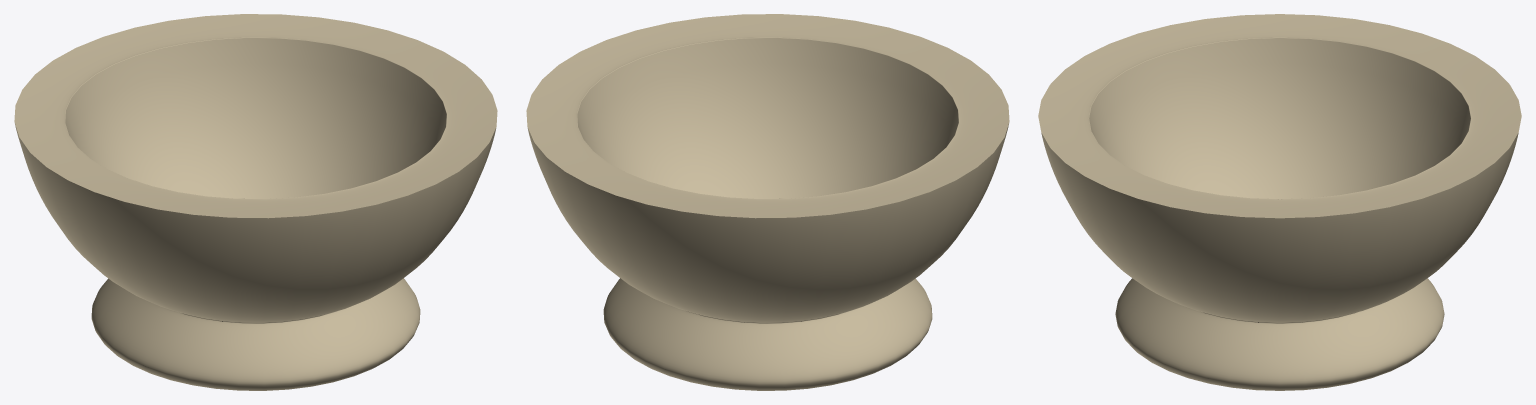
File: fire_pot.fbx
The picture shows the model from 3 angles, left to right: view 1: azimuth 30°, elevation 25°; view 2: azimuth 150°, elevation 25°; view 3: azimuth 270°, elevation 25°; orthographic projection.
Parts seen in each view (by area): view 1: fire_pot; view 2: fire_pot; view 3: fire_pot.
Boxes of the visible parts, <box> form: fire_pot: <box>14,14,497,390</box>; fire_pot: <box>526,14,1009,390</box>; fire_pot: <box>1038,14,1521,390</box>.
Bounding box in the file's own units: 3.77 × 1.82 × 3.77.
